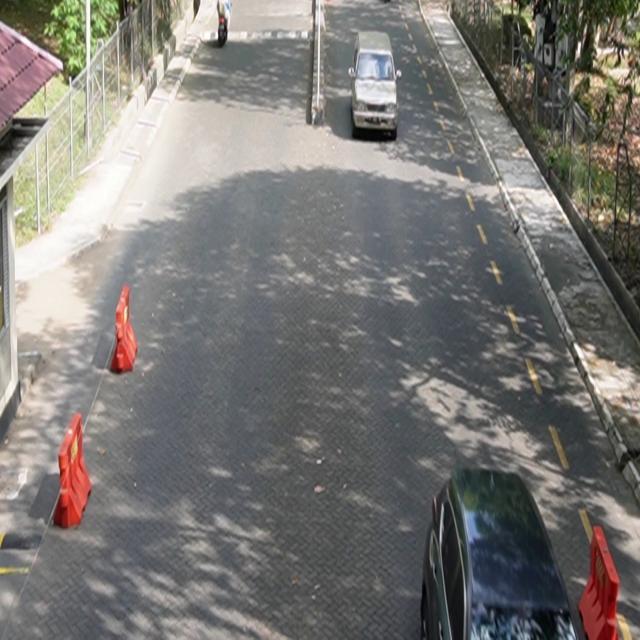car: (349, 31, 403, 141)
